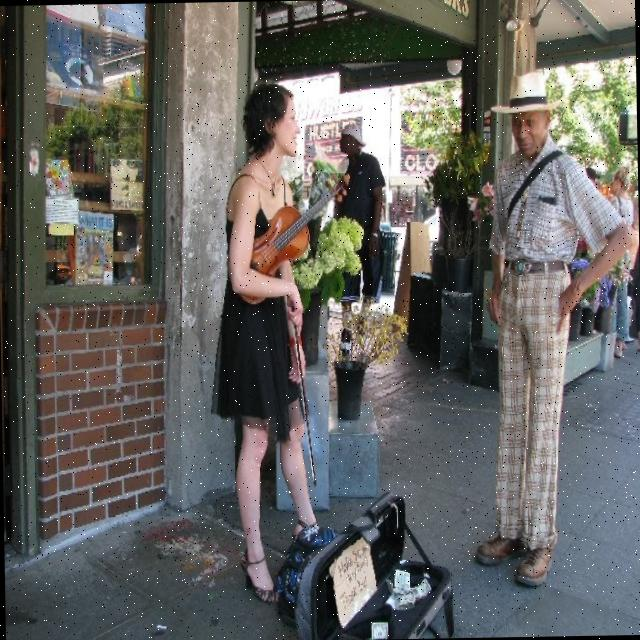violin: (232, 168, 354, 308)
